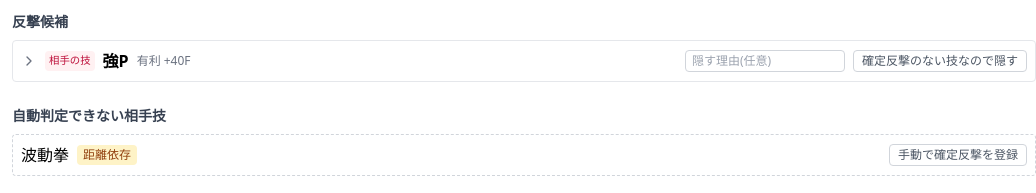
Test: PunishTree › ガードタブの手動登録へ自キャラ・opponentMoveId・punish_counter を渡す
The width and height of the screenshot is (1036, 193).
Click the button "手動で確定反撃を登録" at (958, 155), box [889,144,1027,166]
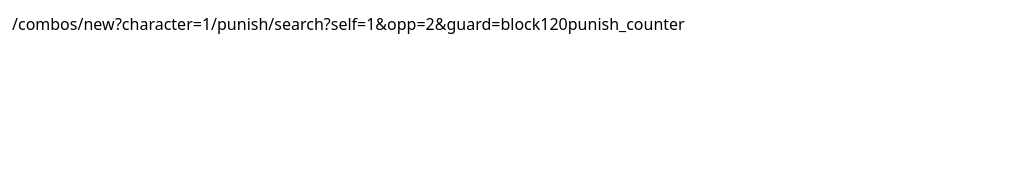
Expected: the text with test id "probe-self-character" reads "1", [540,13,550,35]
Expected: the text with test id "probe-opponent-move" reads "20", [550,13,568,35]
Expected: the text with test id "probe-hit-type" reads "punish_counter", [568,13,685,35]
